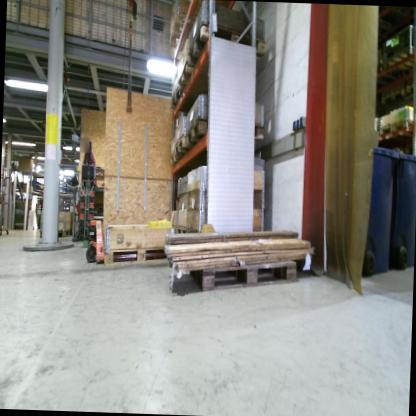pallet: (186, 251, 301, 296), (186, 20, 266, 82), (188, 116, 266, 156), (103, 245, 168, 275), (379, 116, 416, 141), (178, 64, 198, 104), (169, 12, 188, 47), (379, 86, 406, 109), (168, 87, 186, 112), (177, 134, 188, 167), (174, 226, 187, 243), (54, 227, 72, 239), (406, 81, 416, 98), (169, 154, 178, 170)
pallet_truck: (81, 136, 108, 267)
stillage: (378, 23, 416, 72)
